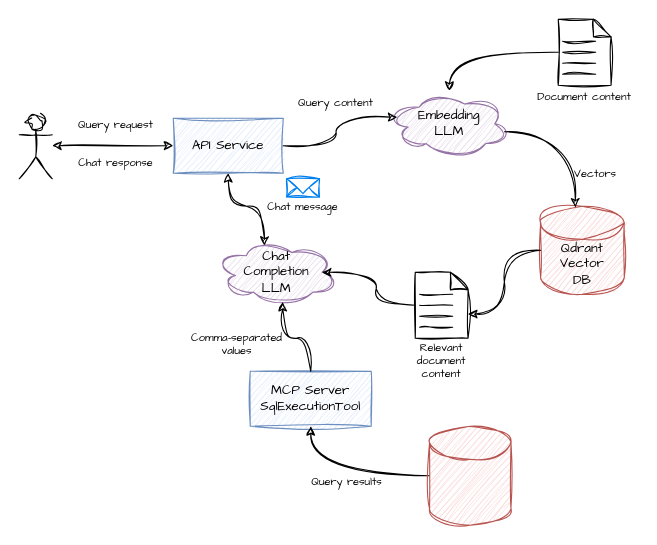
Some shapes in this 657 by 545 pixel diagram are drawn without their labels. The shapes that lost their labels are listed below. From the top down, each one's box as (x1, y1, x2, y2) in pixels, then its label:
(18, 112, 52, 179): User
(428, 425, 511, 525): Northwind PostgreSQL
